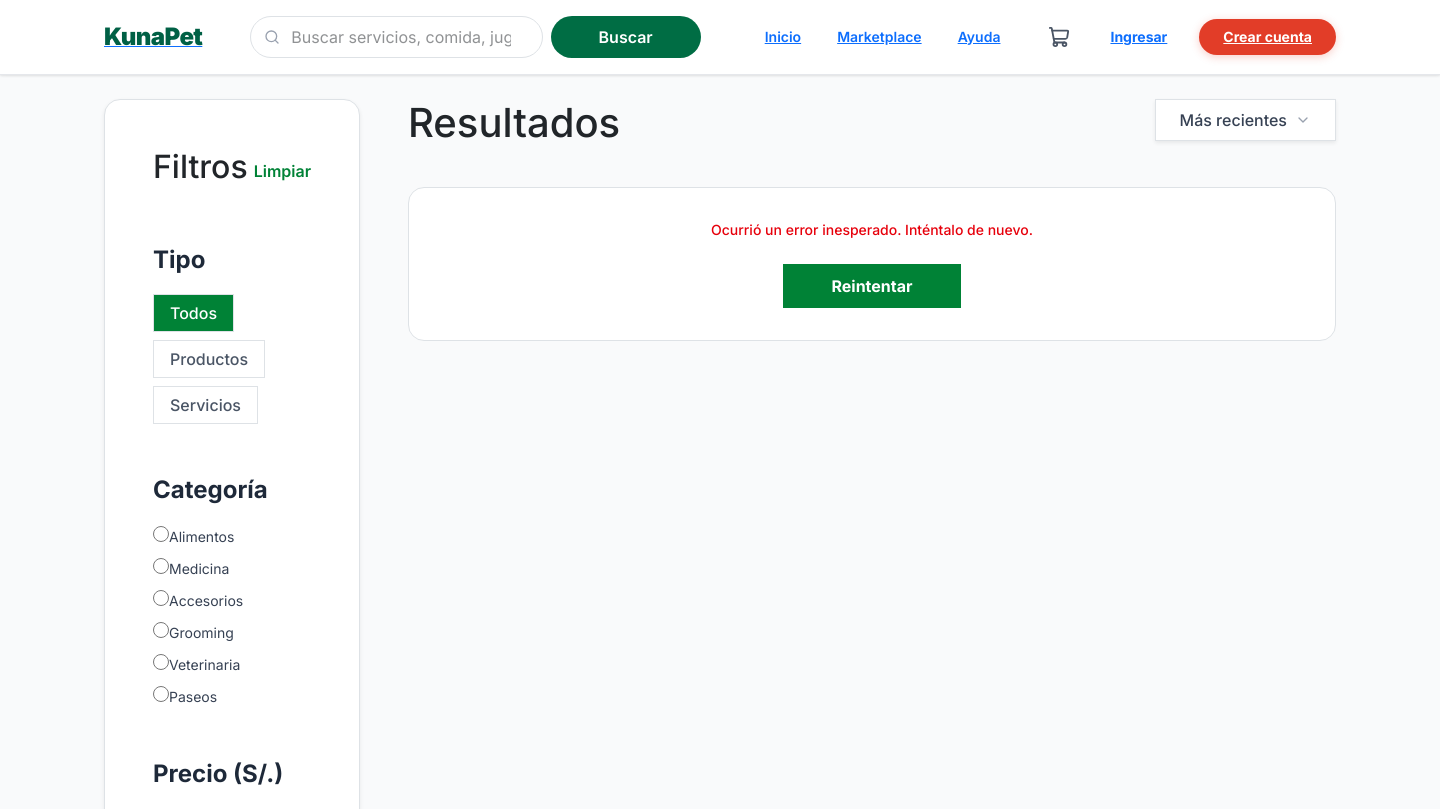
Scenario: Marketplace conectado a la API › error con botón "Reintentar" que vuelve a pedir y muestra los datos
Check: the message shows "Ocurrió un error inesperado", box [711,221,1033,238]
Click the button "Reintentar".
click(872, 286)  # box [784,264,961,308]
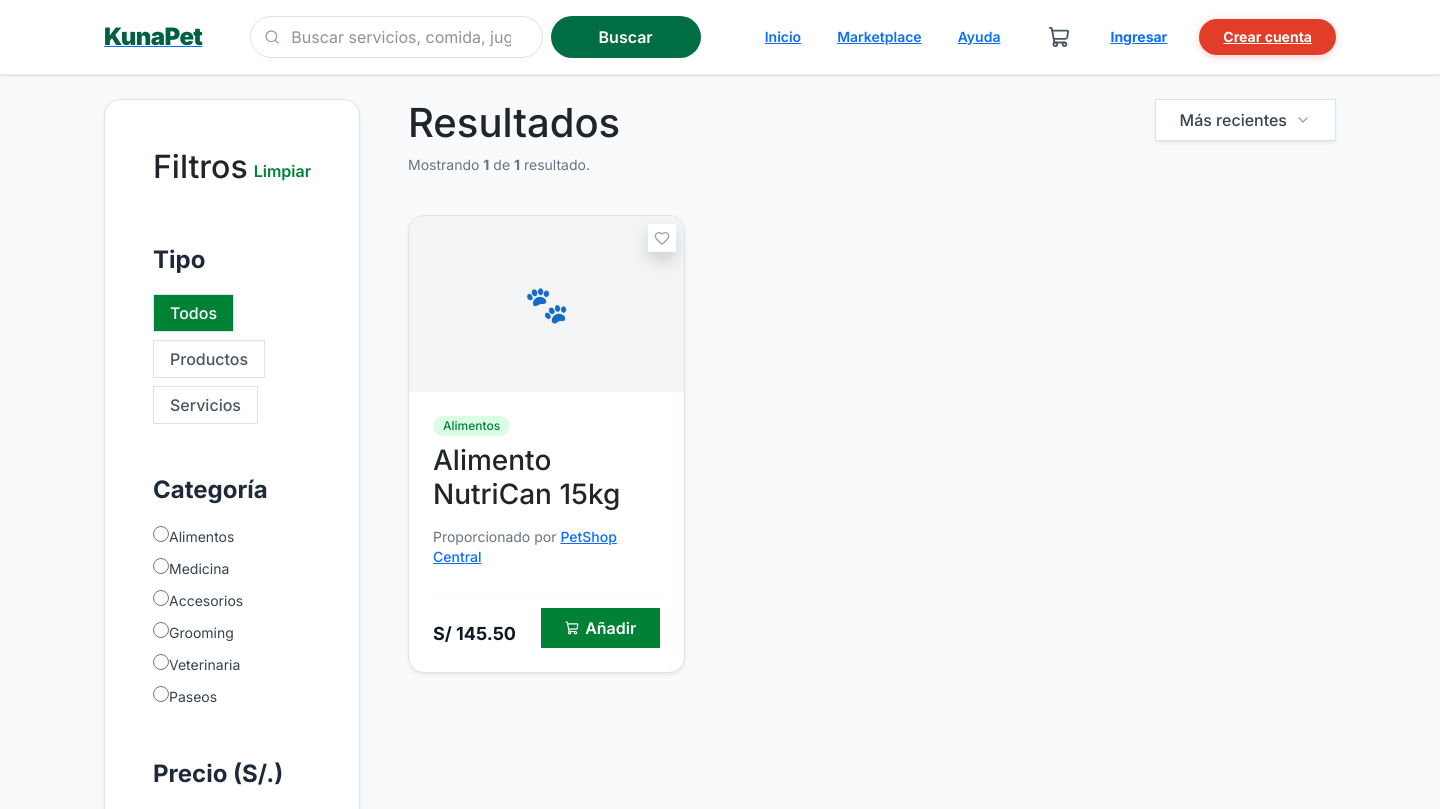
Check: the heading "Alimento NutriCan 15kg" is shown, box [433,443,620,511]
